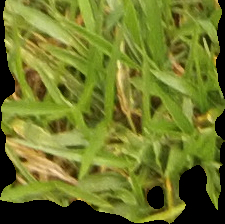grass: (1, 1, 223, 222)
